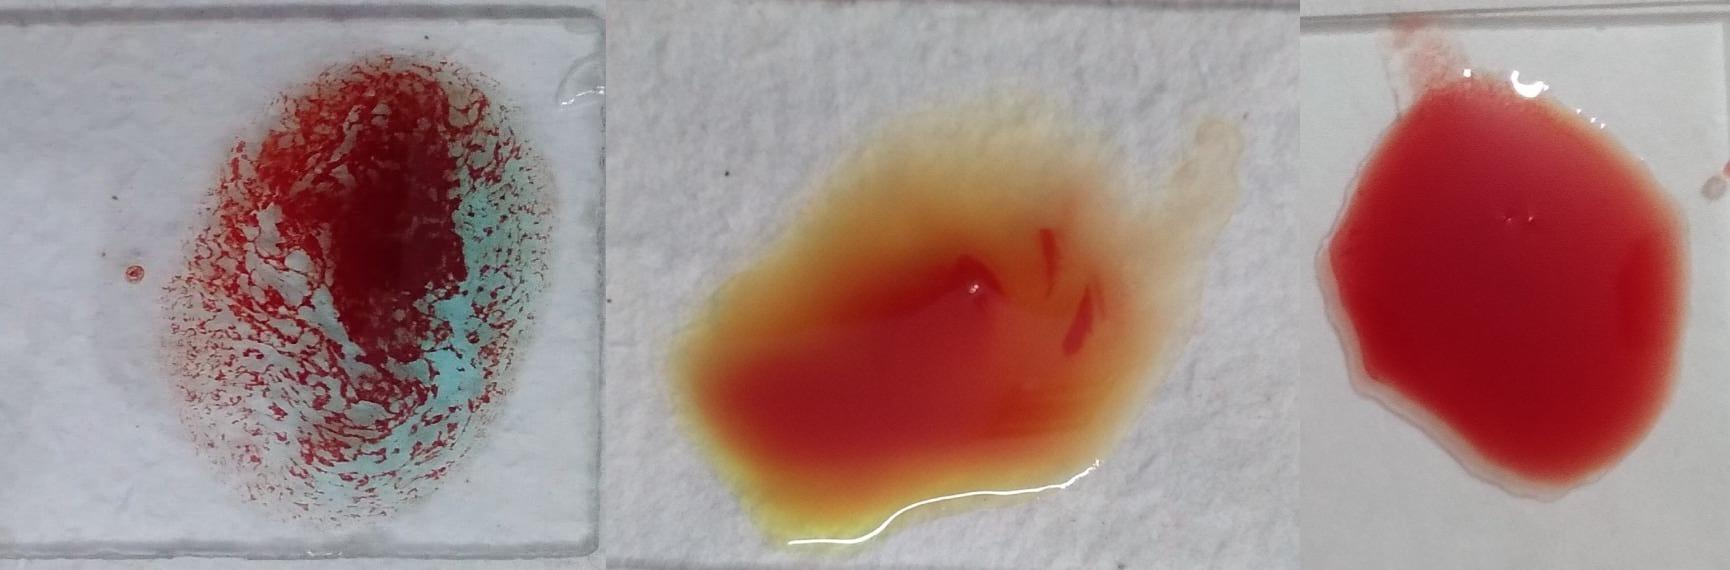A: (163, 49, 546, 529)
